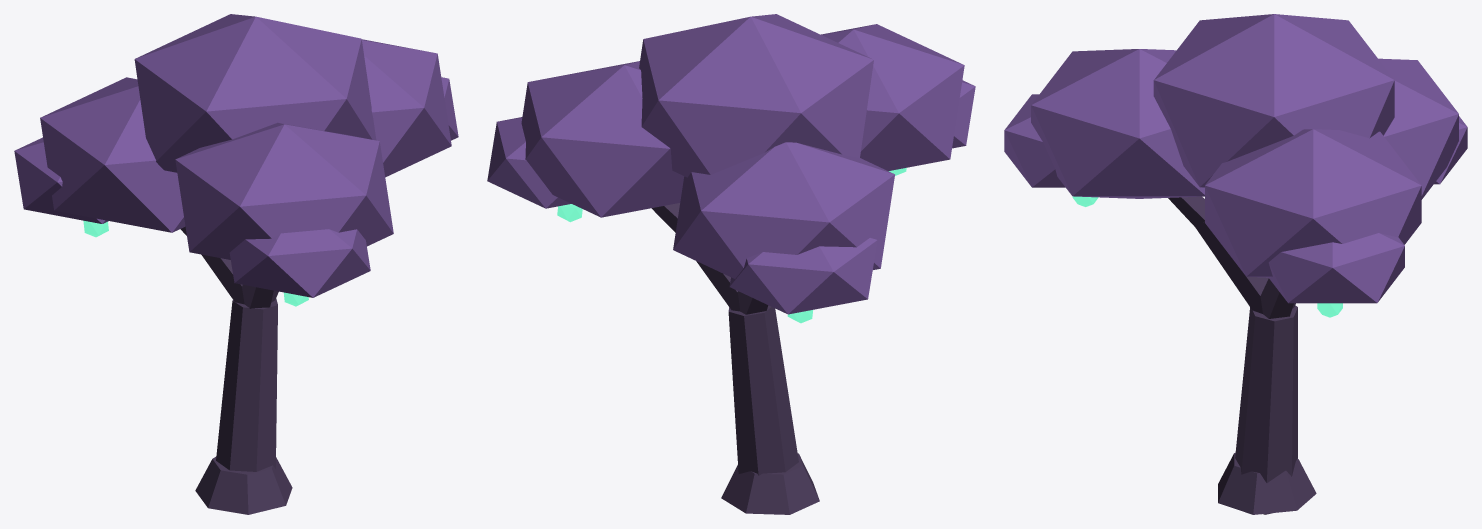
File: exo-flora-canopy.glb
The picture shows the model from 3 angles, left to right: view 1: azimuth 30°, elevation 25°; view 2: azimuth 150°, elevation 25°; view 3: azimuth 270°, elevation 25°; orthographic projection. The views are drawn at different scales.
Parts seen in each view (by area): view 1: body; view 2: body; view 3: body.
Boxes of the visible parts, x1,y1,x2,y2 form: body: (14,14,458,514); body: (487,14,975,514); body: (1004,14,1467,514).
Size of the model in its own units: 5.02 by 5.78 by 4.91.
